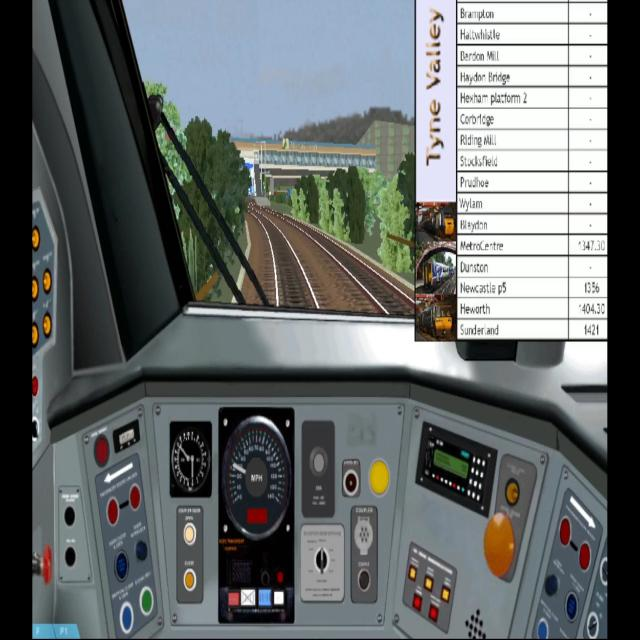Spedometer: (218, 412, 296, 626)
Station: (230, 132, 379, 211)
Track: (278, 216, 417, 322), (250, 211, 329, 315)
